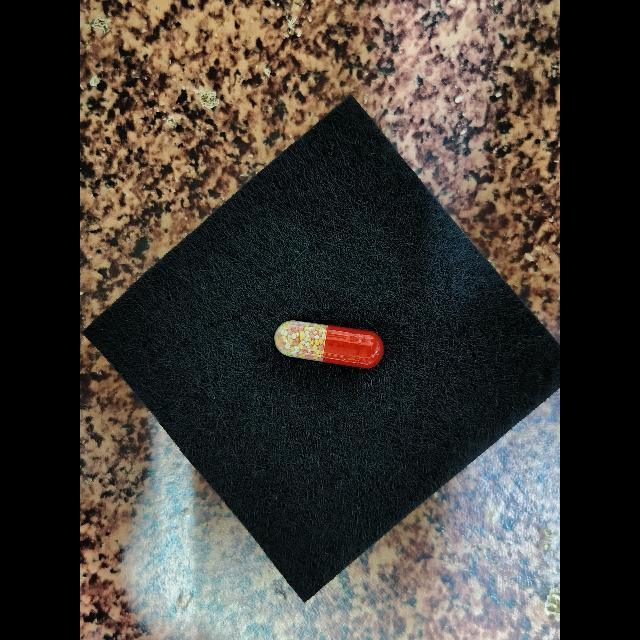Intact Capsule: (274, 320, 384, 368)
